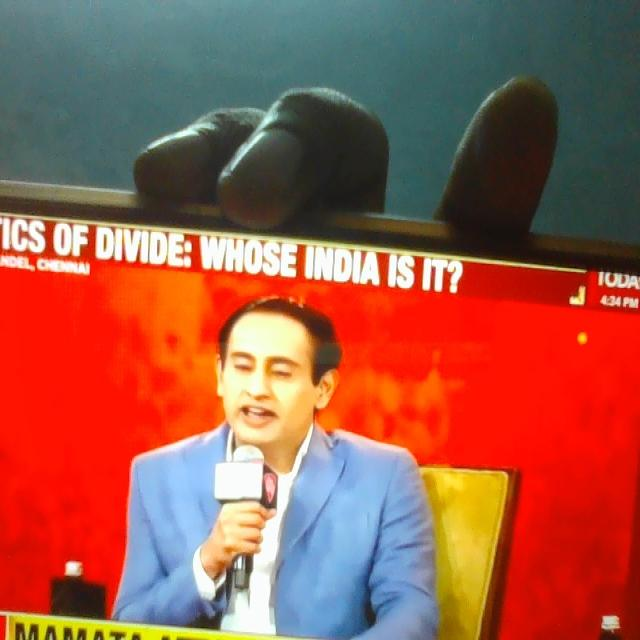fake: (224, 274, 328, 470)
